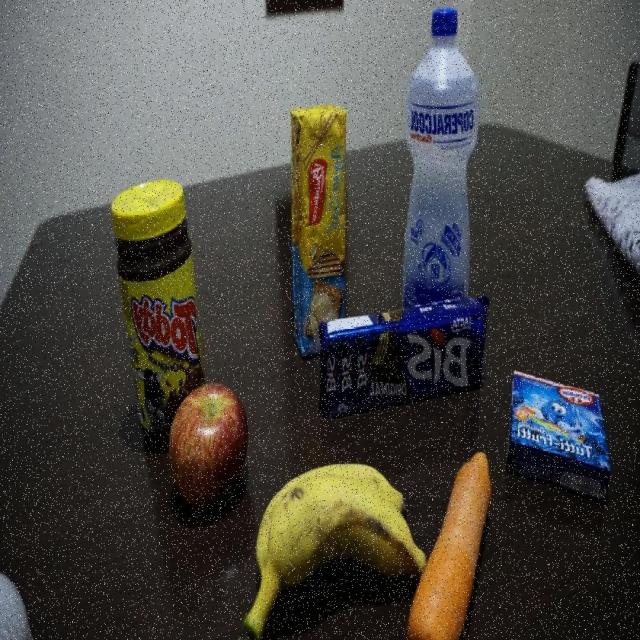AlcoholBottle: (401, 6, 479, 303)
Apple: (167, 382, 249, 511)
Banana: (237, 457, 410, 640)
Carrot: (415, 451, 495, 640)
ChocolatePowder: (111, 176, 204, 378)
Cracker: (292, 105, 346, 322)
Gelatine: (505, 375, 613, 493)
